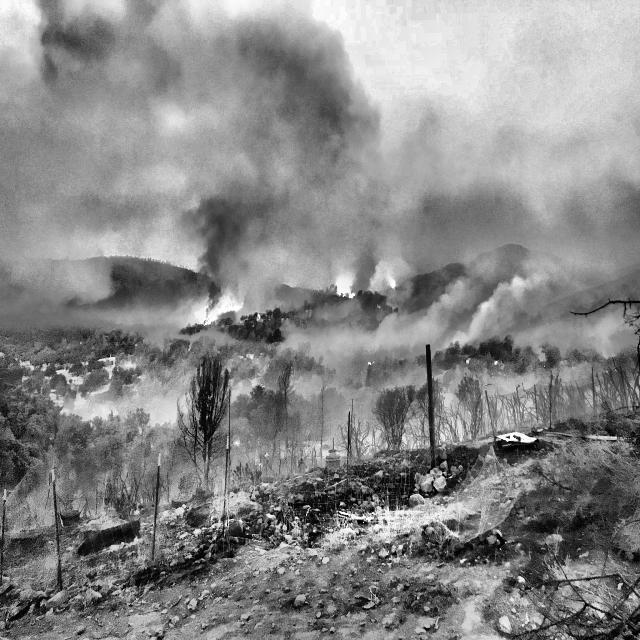fire: (147, 220, 526, 378)
